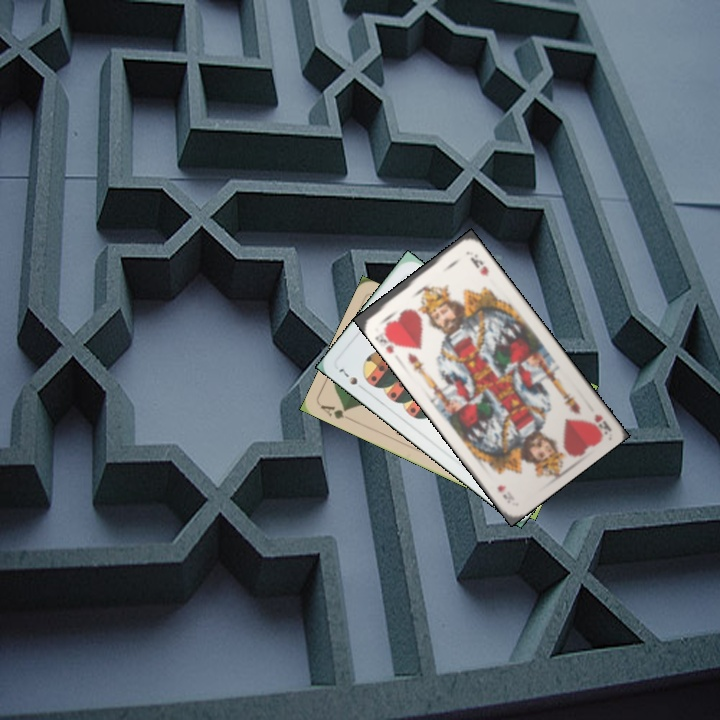GA: (317, 400, 355, 424)
HK: (371, 323, 402, 356), (590, 410, 612, 432)
S7: (334, 364, 360, 388)
